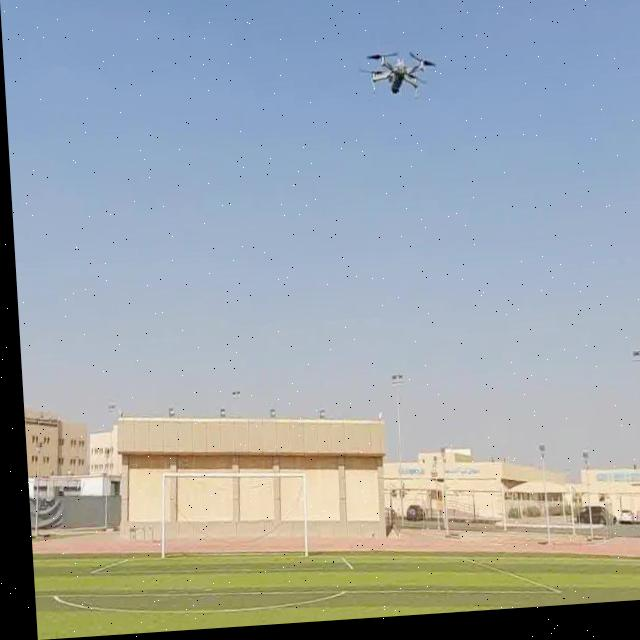drone: (353, 48, 442, 107)
